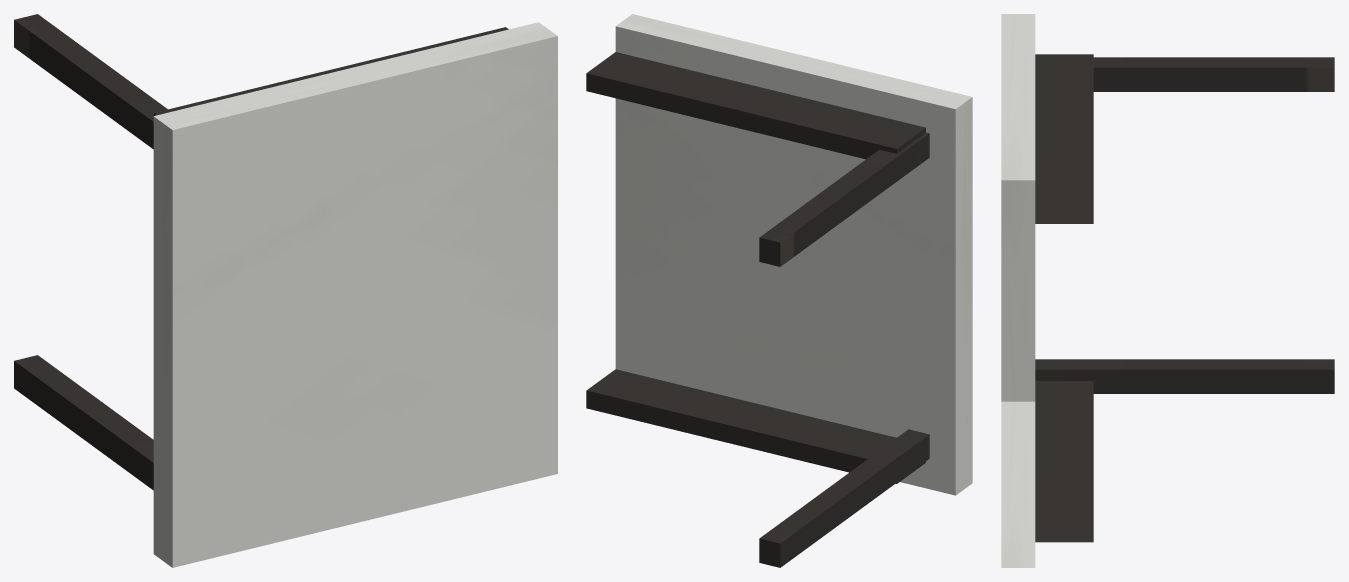
File: pz_table_tables_high_01_large_plastic_0_0.obj
3 views of the same model, side by side, from view 1: azimuth 30°, elevation 25°; view 2: azimuth 150°, elevation 25°; view 3: azimuth 270°, elevation 25° (orthographic). The views are drawn at different scales.
Bounding box in the file's own units: 0.875 × 0.95 × 0.74.
Materials: 1 (1 with a texture image).
